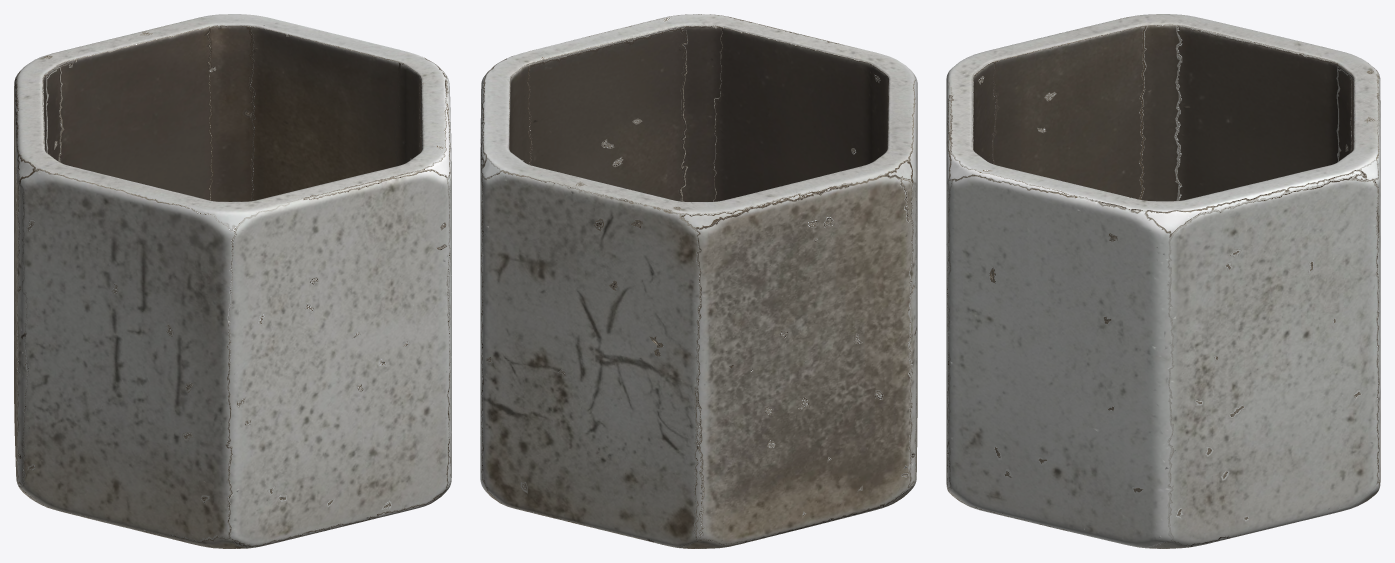
The picture shows the model from 3 angles, left to right: view 1: azimuth 30°, elevation 25°; view 2: azimuth 150°, elevation 25°; view 3: azimuth 270°, elevation 25°; orthographic projection.
Bounding box in the file's own units: 1.64 × 1.24 × 1.44.
Materials: 1 (1 with a texture image).
